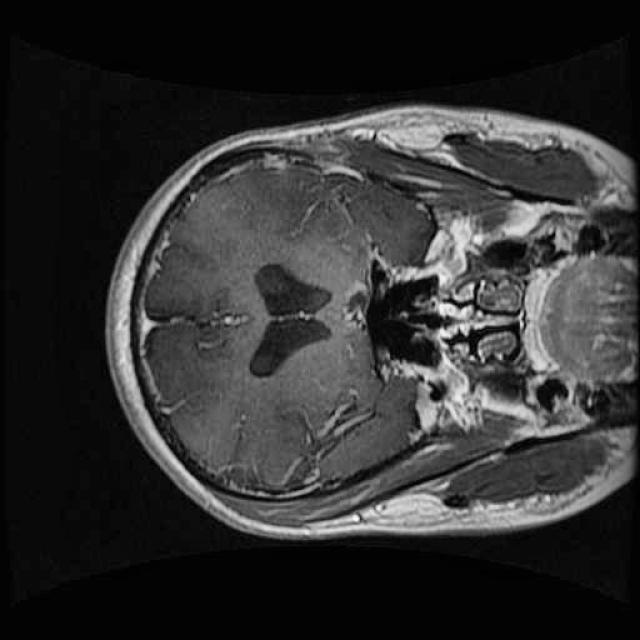Non-Tumor: (328, 275, 376, 348)
